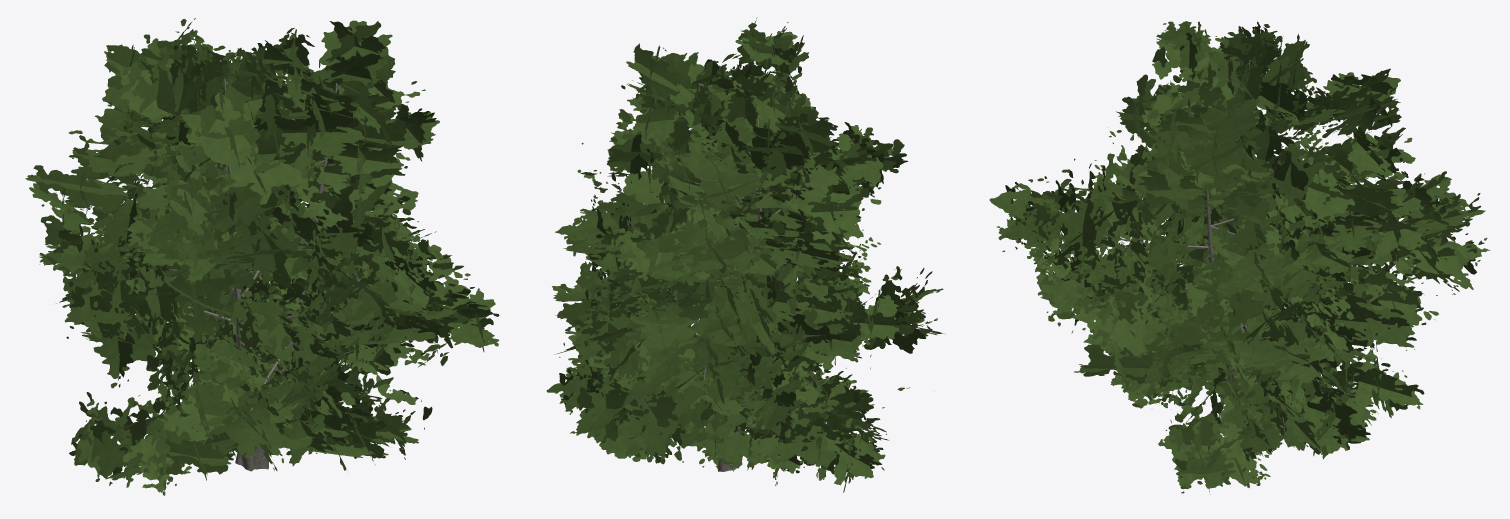
The model's file is MultistemEdgeBeechV2LOD0.fbx.
3 renders of one model, left to right at view 1: azimuth 30°, elevation 25°; view 2: azimuth 150°, elevation 25°; view 3: azimuth 270°, elevation 25°, orthographic. The views are drawn at different scales.
Parts seen in each view (by area): view 1: Foliage, Bark; view 2: Foliage; view 3: Foliage, Bark.
Part boxes in pixels (x1,y1,x2,y2): Foliage: [25, 18, 499, 495]; Bark: [123, 78, 402, 471]; Foliage: [546, 17, 945, 492]; Foliage: [989, 21, 1490, 494]; Bark: [1054, 54, 1413, 437].
Size of the model in its own units: 6.35 by 7.41 by 8.04.
2 materials, 2 textured.
